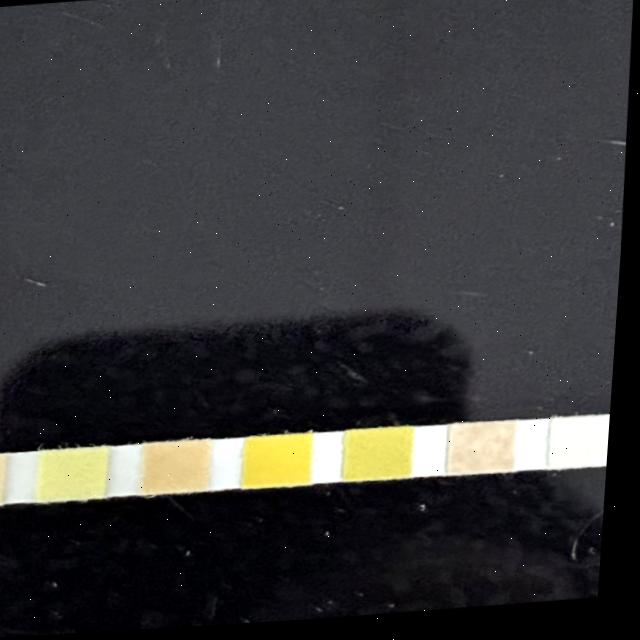Bilirubin: (556, 421, 616, 474)
Blood: (251, 437, 318, 491)
Ketone: (456, 427, 521, 479)
Protein: (46, 448, 112, 502)
SpGravity: (351, 431, 418, 483)
Urobilinogen: (0, 453, 9, 505)
pH: (149, 442, 215, 494)
